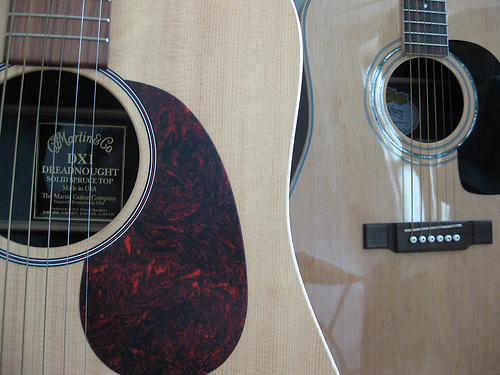guitar: (1, 1, 340, 375), (286, 1, 500, 375)
